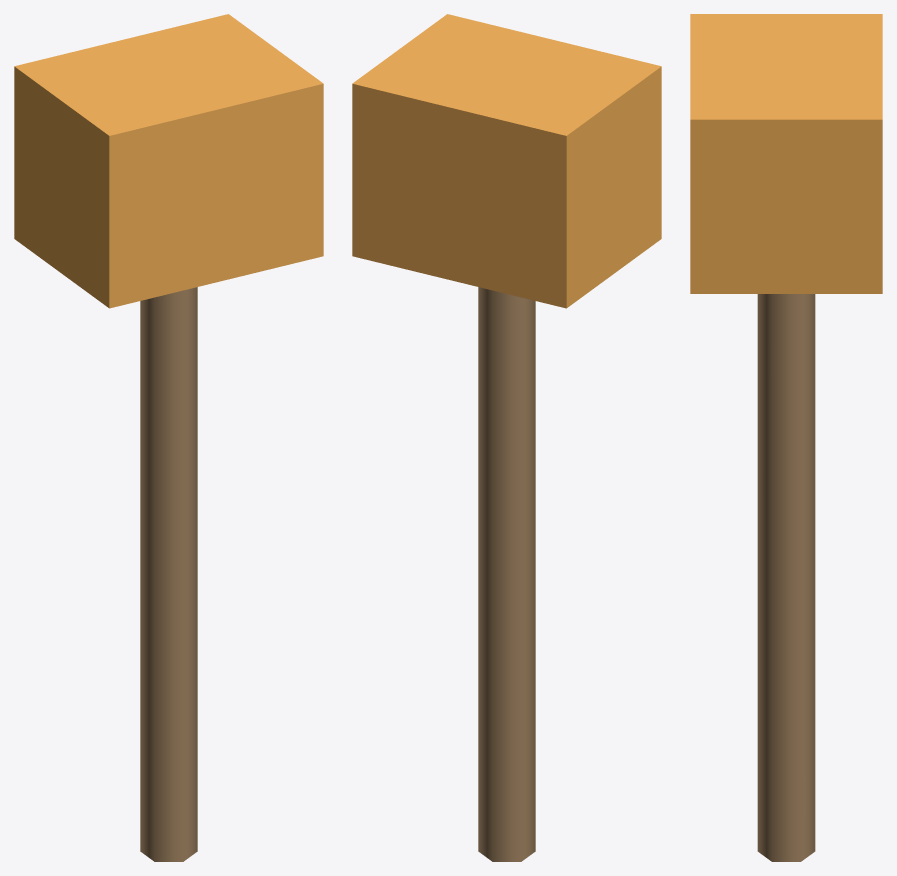
File: kotak_pos.glb
The picture shows the model from 3 angles, left to right: view 1: azimuth 30°, elevation 25°; view 2: azimuth 150°, elevation 25°; view 3: azimuth 270°, elevation 25°; orthographic projection.
Visible parts, largest first — view 1: kotak_pos; view 2: kotak_pos; view 3: kotak_pos.
Part boxes in pixels (<box>): kotak_pos: <box>14,14,323,861</box>; kotak_pos: <box>352,14,661,861</box>; kotak_pos: <box>690,14,882,861</box>.
Size of the model in its own units: 0.26 by 0.9 by 0.2.
